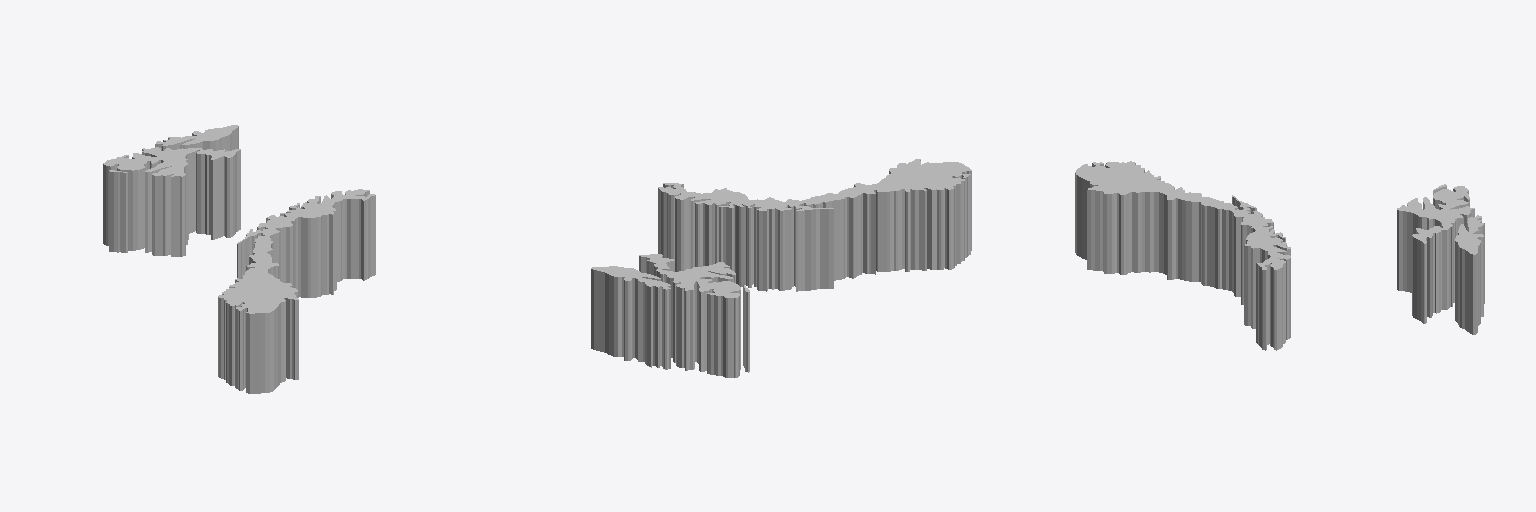
The picture shows the model from 3 angles: view 1: azimuth 30°, elevation 25°; view 2: azimuth 150°, elevation 25°; view 3: azimuth 270°, elevation 25°; orthographic projection.
Parts seen in each view (by area): view 1: NO.002_CUCurve.1747; view 2: NO.002_CUCurve.1747; view 3: NO.002_CUCurve.1747.
Part boxes in pixels (left/top/right/bottom): NO.002_CUCurve.1747: left=103, top=125, right=375, bottom=393; NO.002_CUCurve.1747: left=591, top=159, right=971, bottom=377; NO.002_CUCurve.1747: left=1075, top=161, right=1484, bottom=350.
Size of the model in its own units: 0.1459 by 0.05 by 0.2315.